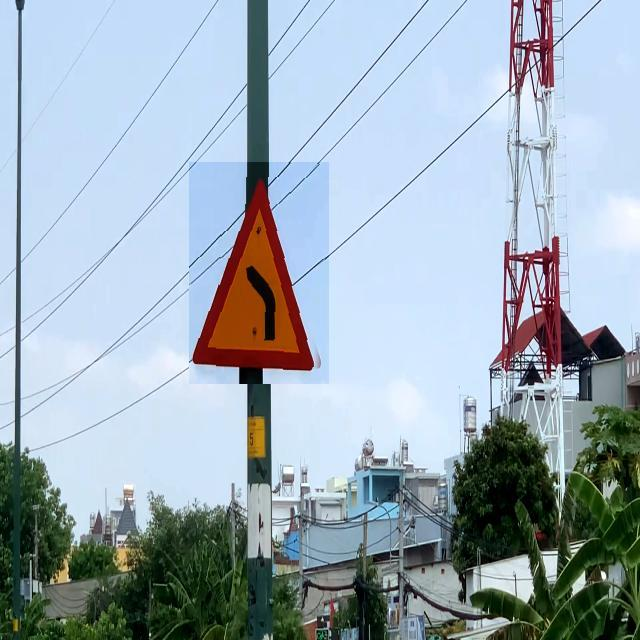W-201a: (189, 162, 329, 384)
